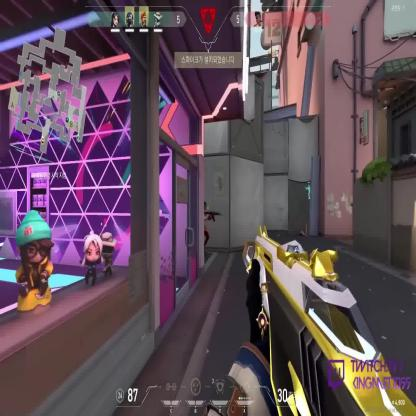enemy: (196, 199, 222, 259)
enemy_head: (203, 200, 207, 214)
